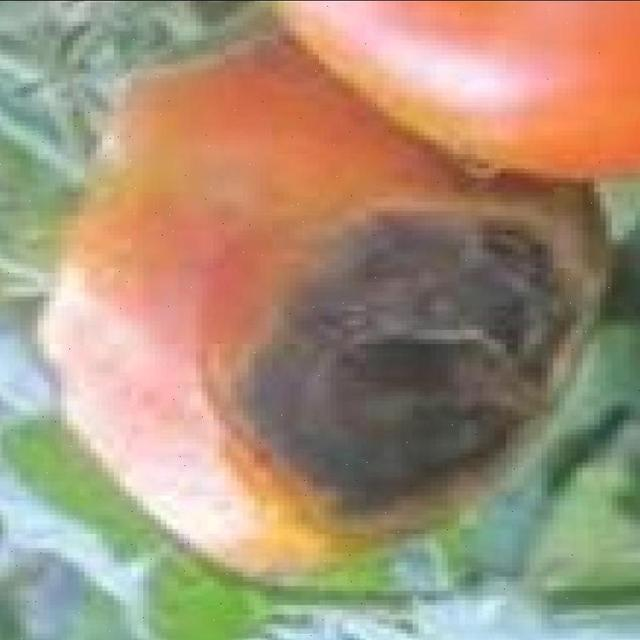Blossom End Rot Fruit: (152, 137, 390, 368)
